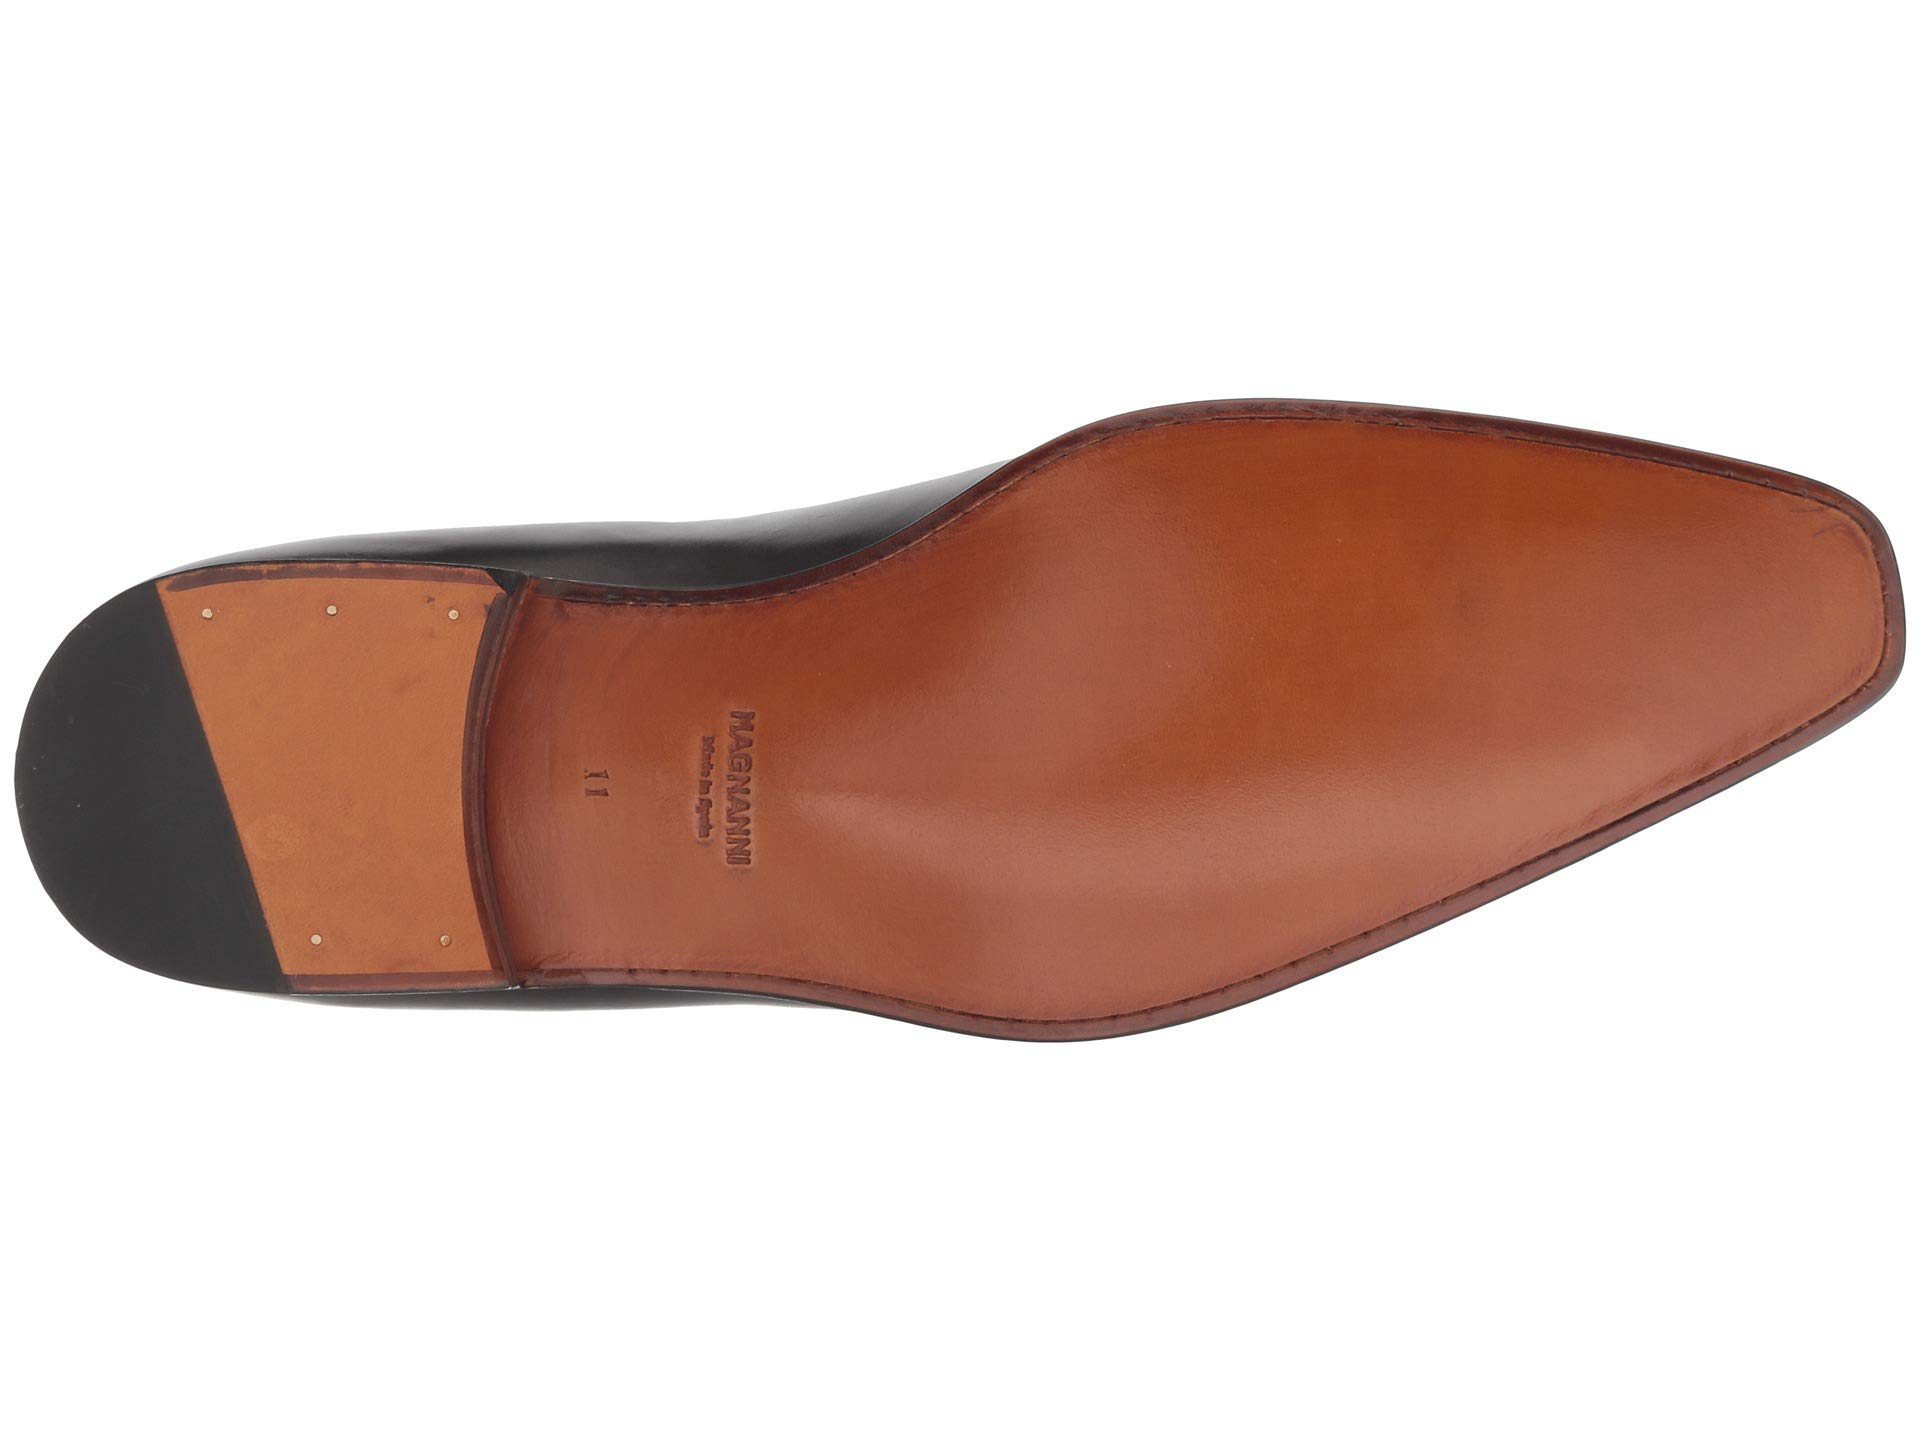circle: (187, 582, 503, 659)
text: (534, 641, 868, 968)
